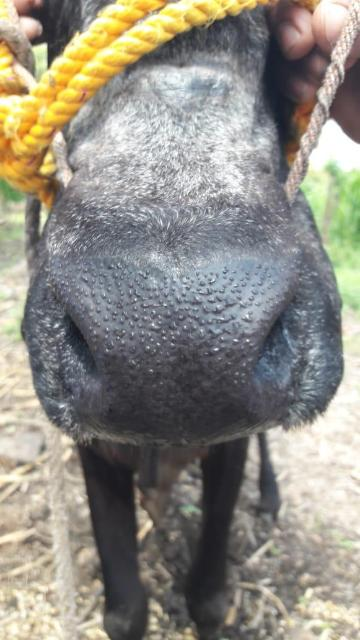Muzzle: (62, 268, 278, 430)
